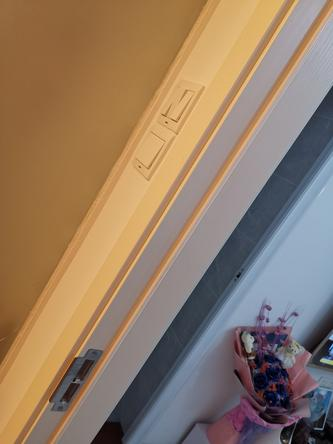switch: (169, 81, 191, 123), (144, 135, 161, 168)
